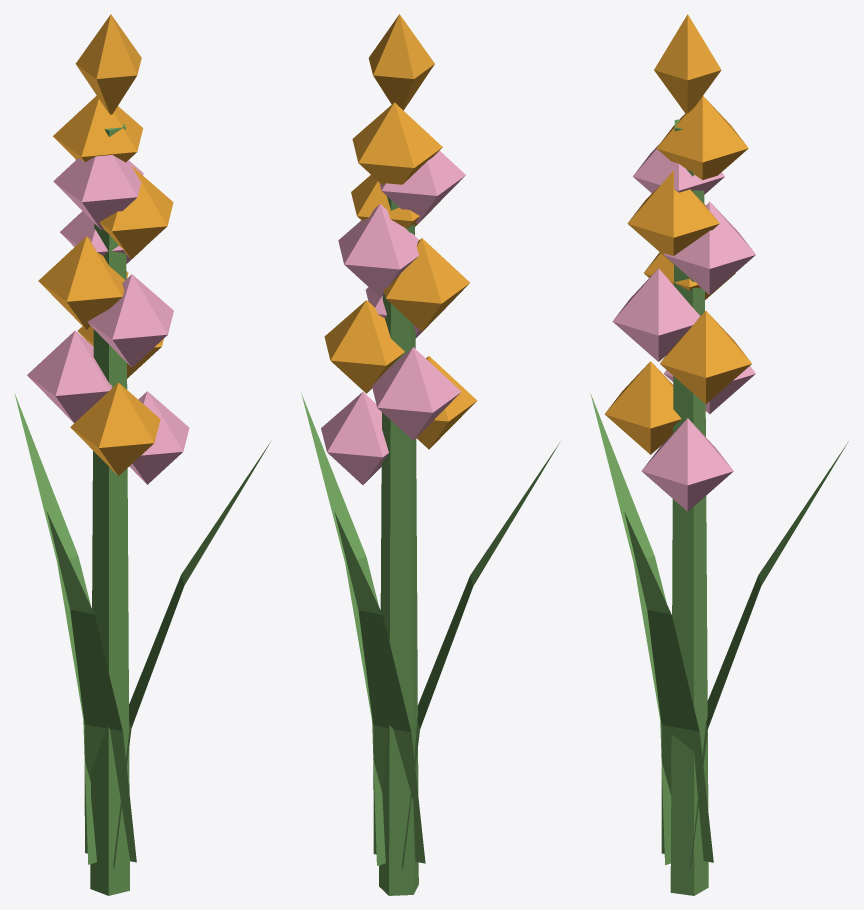
File: deco_lavender.obj
3 renders of one model, left to right at view 1: azimuth 30°, elevation 25°; view 2: azimuth 150°, elevation 25°; view 3: azimuth 270°, elevation 25°, orthographic.
Visible parts, largest first — view 1: deco_lavender; view 2: deco_lavender; view 3: deco_lavender.
Boxes of the visible parts, x1,y1,x2,y2 form: deco_lavender: [14, 14, 270, 895]; deco_lavender: [301, 14, 559, 895]; deco_lavender: [590, 14, 848, 895].
Size of the model in its own units: 0.0174 by 0.0595 by 0.016.
Materials: 1 (1 with a texture image).
